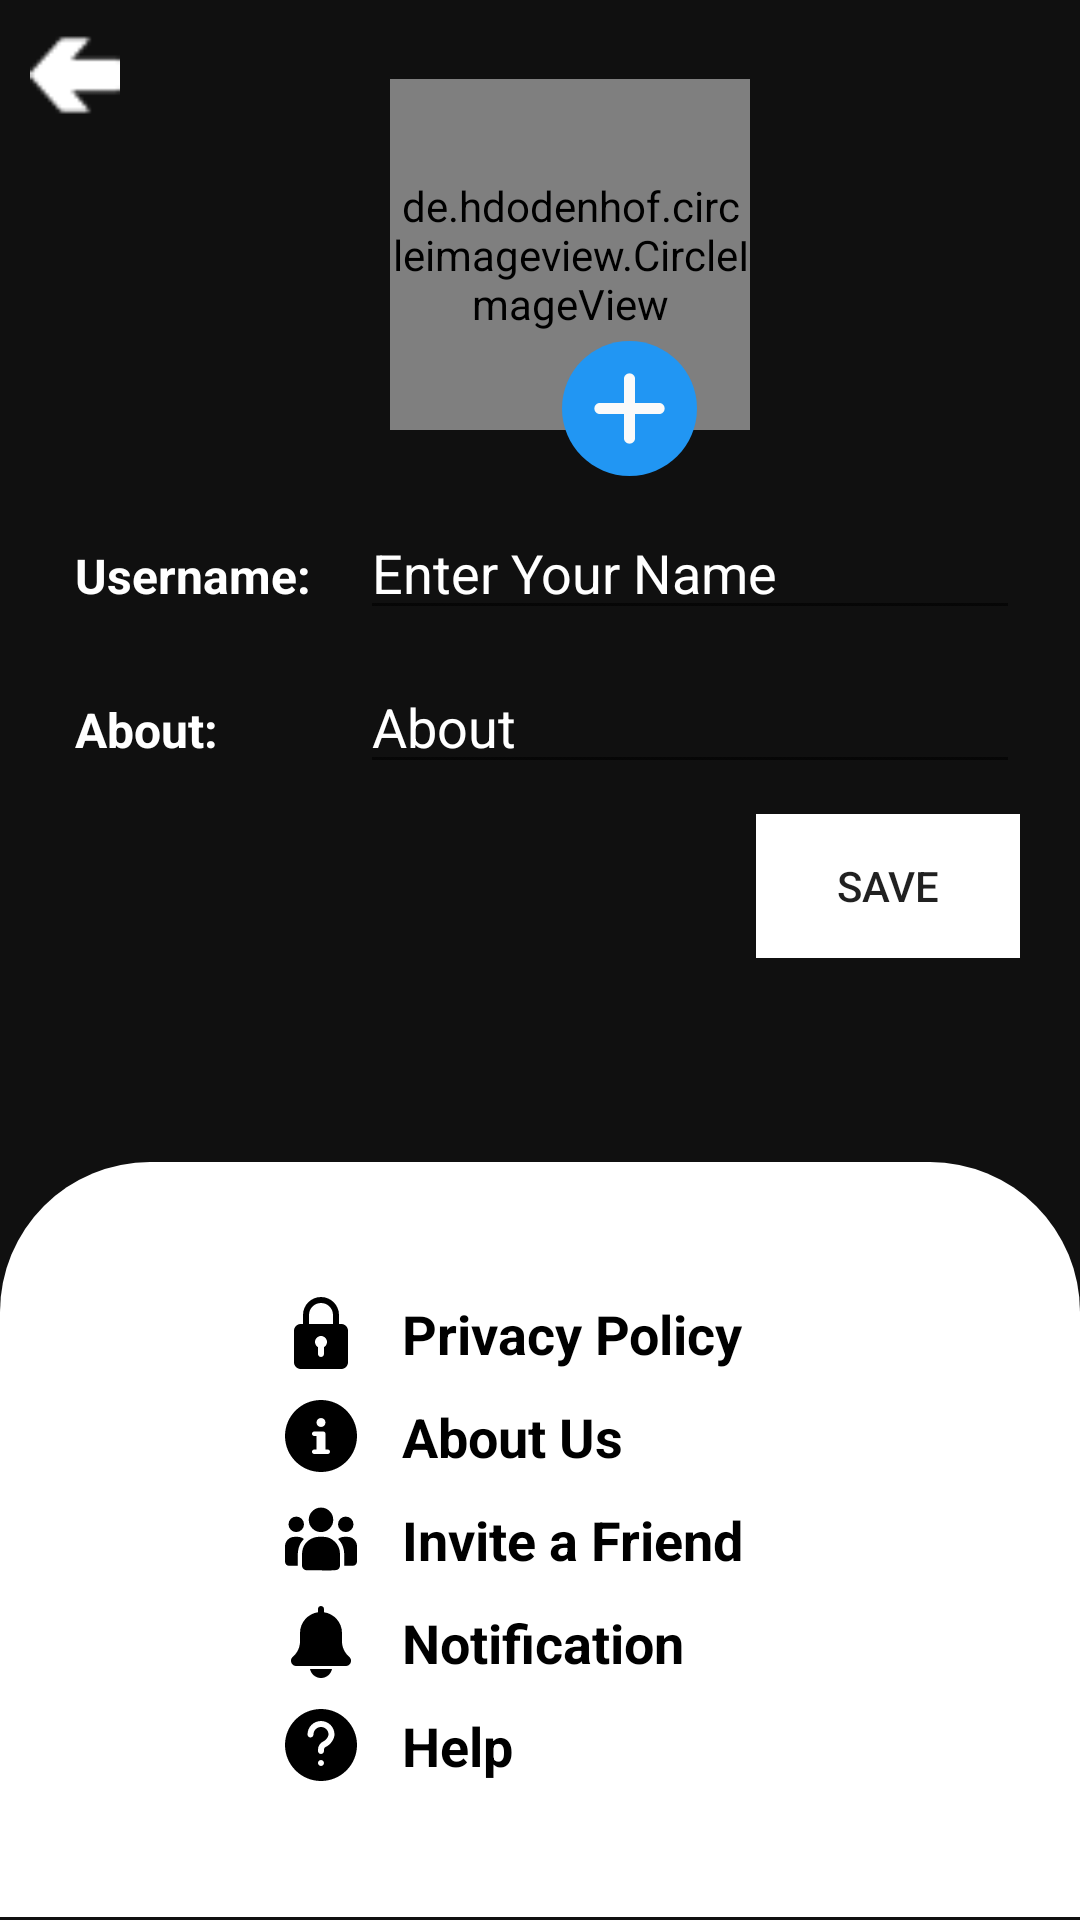

Where to tap for icons on this 1080 × 1920 app screen, as (x=x, y=y):
leftarro: (x=75, y=75)
plus: (x=629, y=408)
